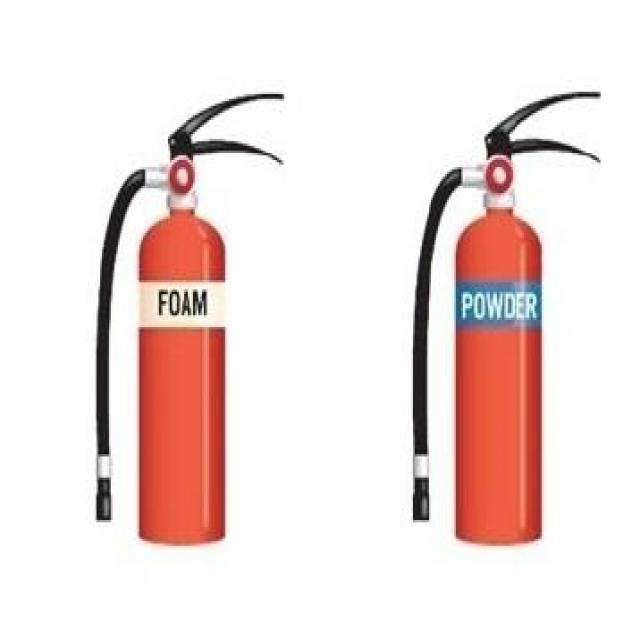fire_extinguisher: (404, 83, 604, 550), (89, 85, 286, 548)
